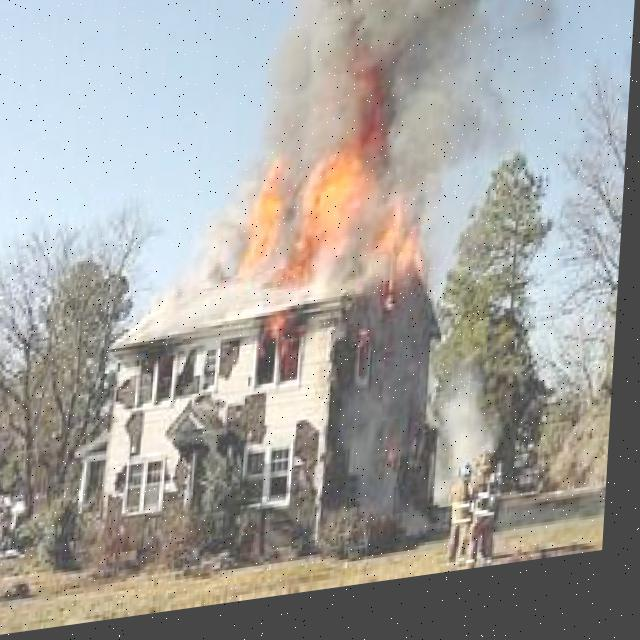Fire: (240, 138, 448, 322), (263, 318, 301, 364)
